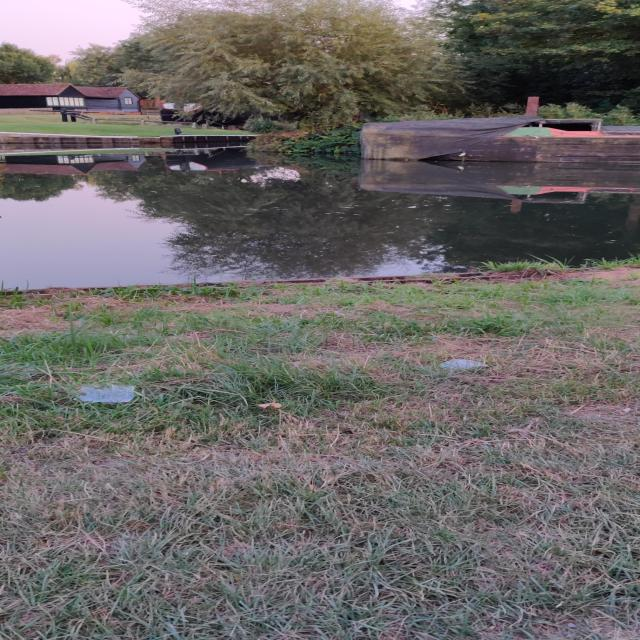litter: (72, 384, 135, 402), (438, 358, 489, 370)
